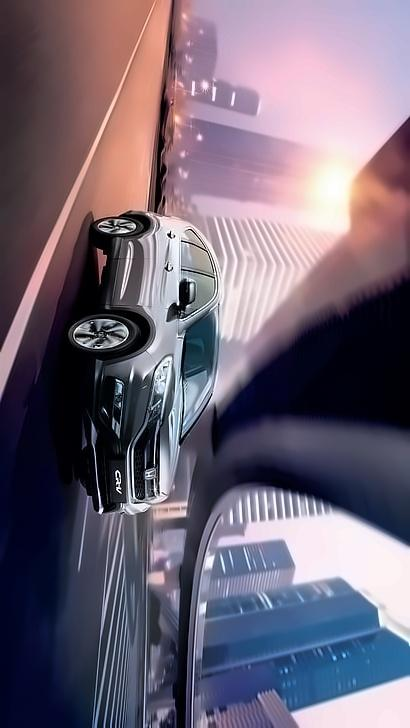Car hood: (156, 341, 181, 500)
Driver-s door - -F-R-: (106, 260, 218, 316)
Fender - -F-R-: (101, 300, 190, 366)
Fender - -R-R-: (133, 217, 195, 239)
Front bumper: (79, 351, 152, 519)
Headlight - -L-: (144, 487, 173, 512)
Headlight - -R-: (142, 348, 178, 424)
Passenger-s door - -R-R-: (117, 230, 219, 265)
Rear bumper: (120, 199, 155, 217)
Side bumper - -R-: (97, 230, 121, 317)
Side mirror - -R-: (172, 275, 200, 313)
